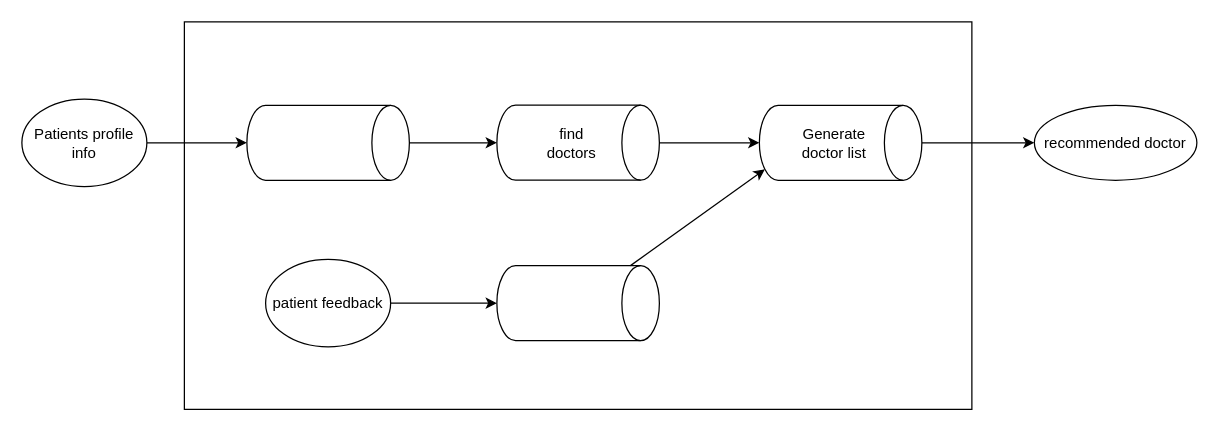
This 1219x431 diagram has some shape labels left out. Each missing label, with the box of its shape:
Extract tags: (246, 104, 409, 180)
Statistical analysis: (496, 264, 659, 341)
